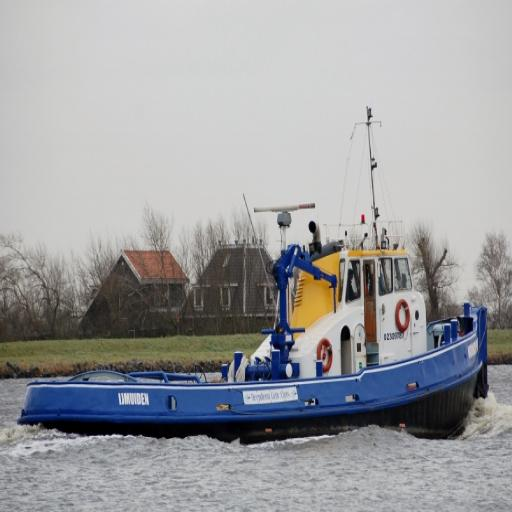tugboat: (15, 104, 495, 461)
